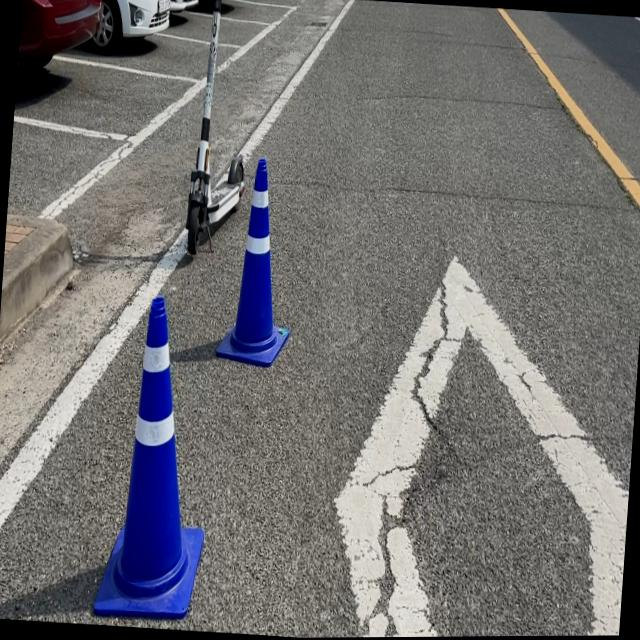b_rub: (93, 295, 203, 619), (216, 157, 289, 366)
